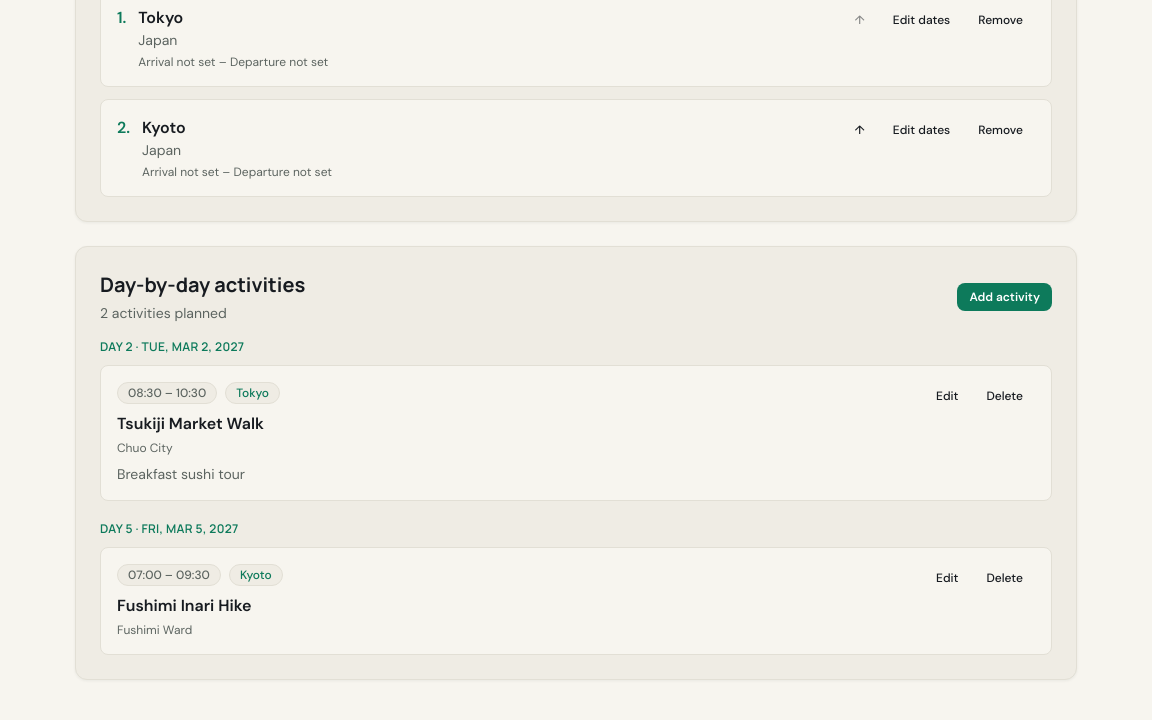
Test: Trip detail and itinerary › edits an activity and rolls back optimistic deletion on error
(page scrolled)
expect the text "Tsukiji Market Walk" is shown: met, box [117,413,264,434]
Step 1. Click the button with aria-label "Edit Tsukiji Market Walk" → (947, 396), box [924,382,970,410]
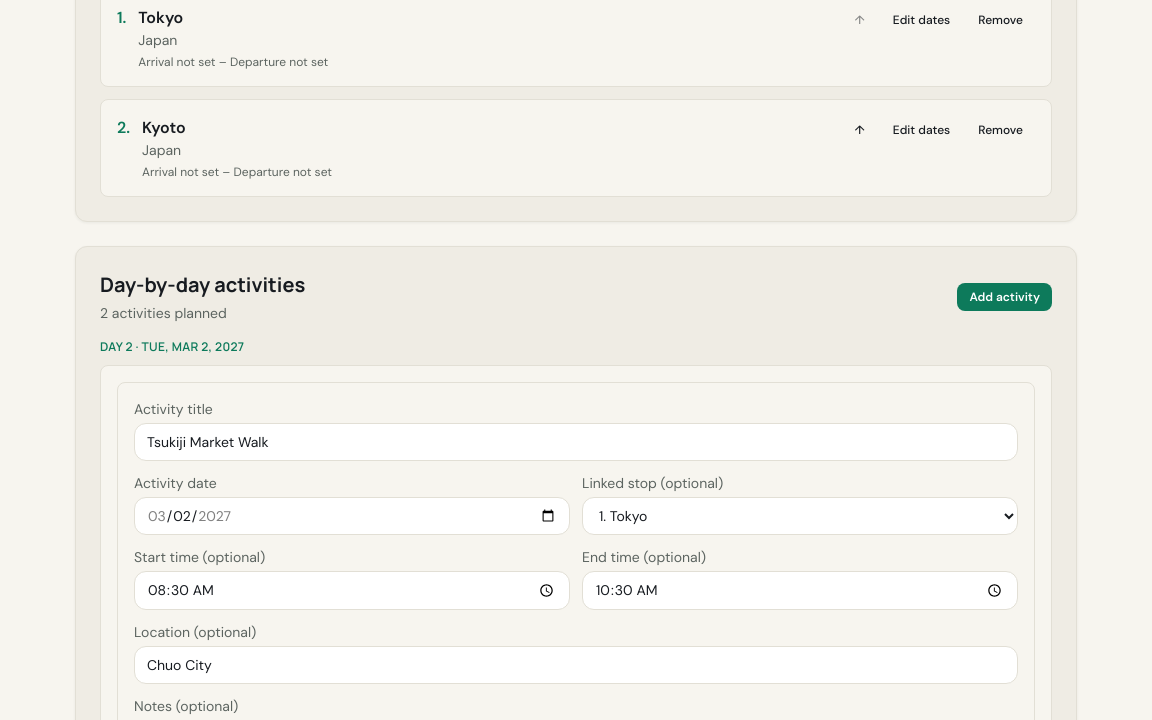
Step 2. Replace the text in the field labelled "Activity title" with "Updated Market Tour" → (576, 442), box [134,423,1018,461]
(page scrolled)
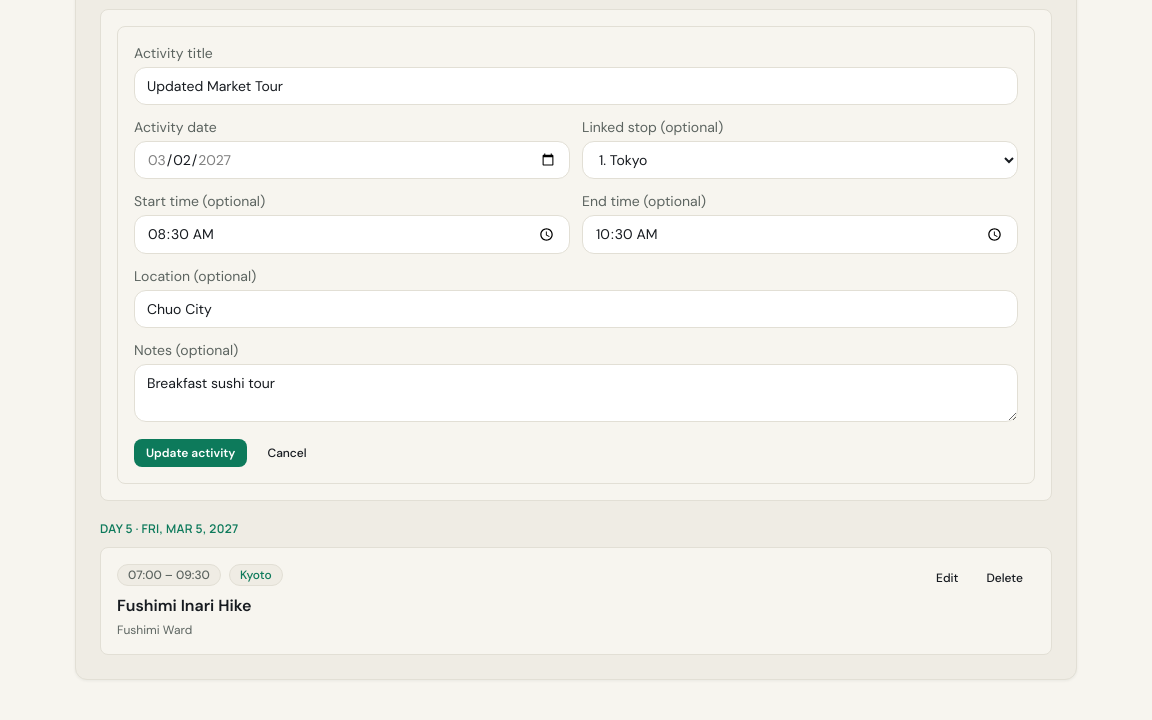
Step 3. Click the button "Update activity" → (191, 453), box [134,439,248,467]
(page scrolled)
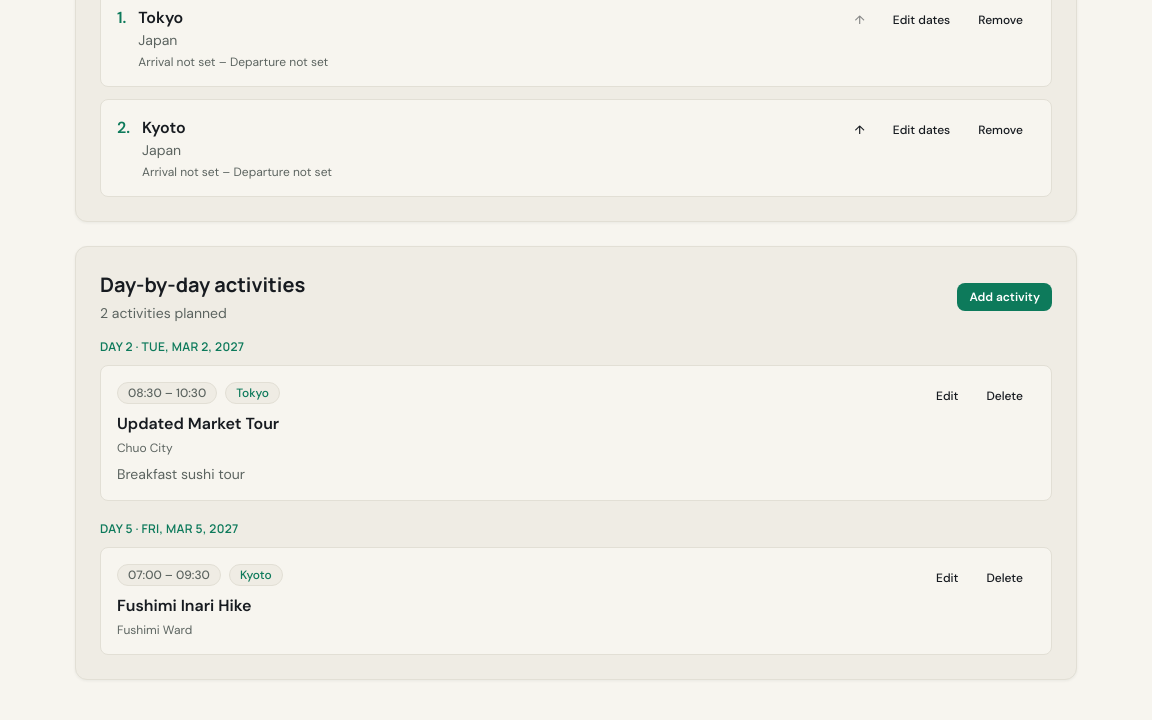
expect the text "Updated Market Tour" is shown: met, box [117,413,279,434]
Step 4. Click the button with aria-label "Delete Updated Market Tour" → (1005, 396), box [974,382,1035,410]
(page scrolled)
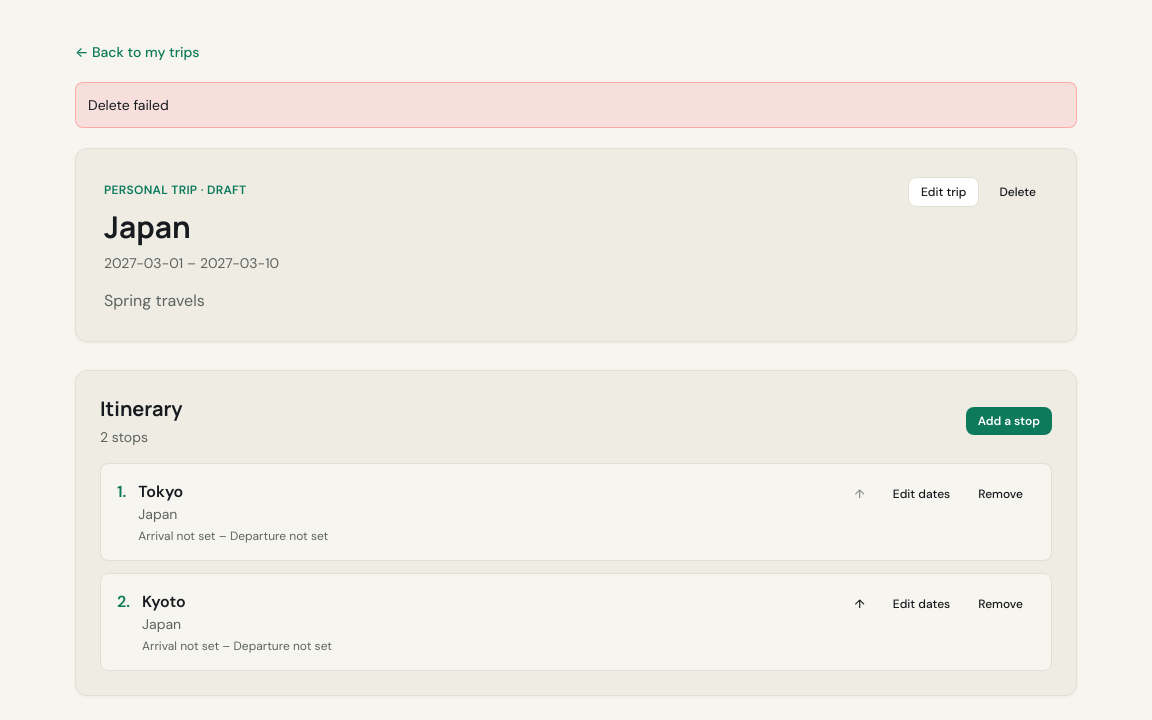
expect the text "Updated Market Tour" is not shown: met
expect the message reads "Delete failed": met, box [88,96,169,114]
